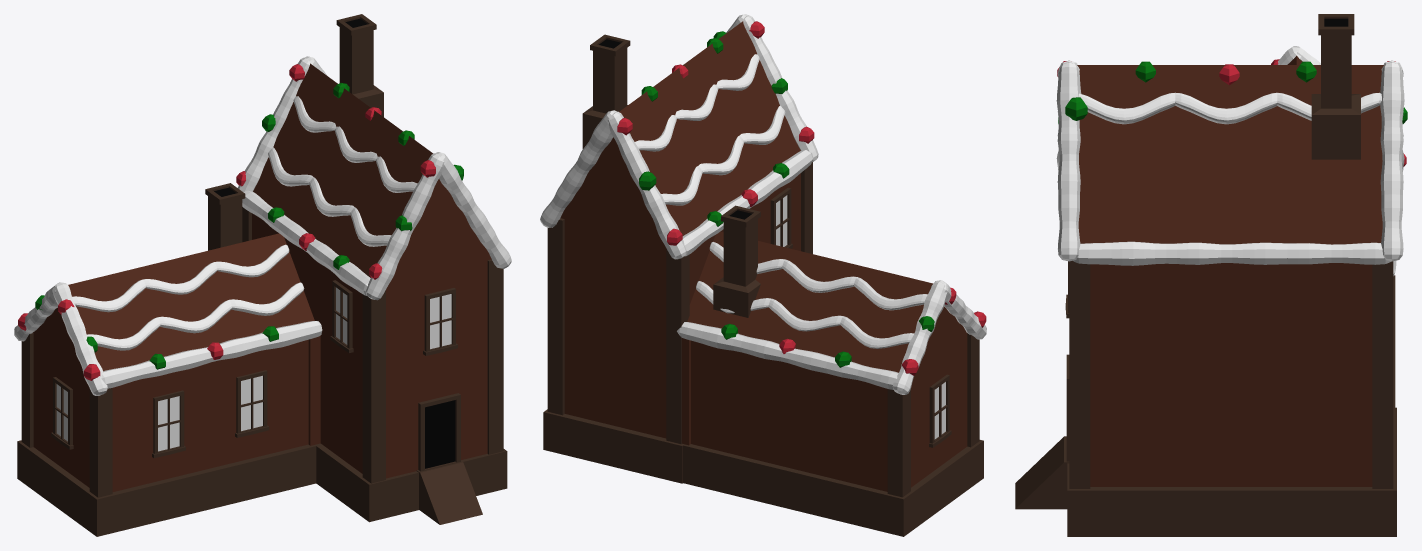
File: Artisan_House_1.fbx
The picture shows the model from 3 angles, left to right: view 1: azimuth 30°, elevation 25°; view 2: azimuth 150°, elevation 25°; view 3: azimuth 270°, elevation 25°; orthographic projection. The views are drawn at different scales.
Visible parts, largest first — view 1: Home Base.001, Home Base, Home Foundation, Home Foundation.001, Support Pillar.006, Frosting Edge, Support Pillar.007, Chimney.001, Door, Stair, Frosting Edge.005, Support Pillar (+28 smaller); view 2: Home Base.001, Home Base, Home Foundation, Home Foundation.001, Chimney, Frosting Edge.001, Support Pillar.004, Support Pillar.005, Chimney.001, Support Pillar.001, Frosting Edge.009, Frosting Edge.008 (+19 smaller); view 3: Home Base.001, Home Foundation.001, Frosting Edge.007, Chimney.001, Support Pillar.007, Support Pillar.005, Frosting Edge.008, Frosting Edge.004, Stair, Frosting Tile.017, Frosting Tile.015, Frosting Tile.016.
Part boxes in pixels (x1,y1,x2,y2): Home Base.001: (252, 63, 491, 478); Home Base: (33, 233, 314, 491); Home Foundation: (17, 440, 321, 536); Home Foundation.001: (316, 444, 507, 522); Support Pillar.006: (362, 290, 385, 483); Frosting Edge: (101, 321, 322, 388); Support Pillar.007: (487, 259, 503, 454); Chimney.001: (336, 14, 383, 116); Door: (418, 393, 460, 471); Stair: (416, 461, 482, 524); Frosting Edge.005: (366, 153, 444, 300); Support Pillar: (89, 388, 112, 497); Home Base.001: (560, 21, 800, 438); Home Base: (687, 231, 967, 491); Home Foundation: (671, 440, 983, 536); Home Foundation.001: (543, 409, 682, 483); Chimney: (713, 205, 760, 317); Frosting Edge.001: (677, 322, 898, 389); Support Pillar.004: (666, 248, 689, 443); Support Pillar.005: (547, 218, 564, 415); Chimney.001: (582, 34, 630, 148); Support Pillar.001: (887, 389, 910, 497); Frosting Edge.009: (607, 111, 686, 259); Frosting Edge.008: (540, 110, 616, 227); Home Base.001: (1077, 65, 1383, 486); Home Foundation.001: (1067, 407, 1396, 536); Frosting Edge.007: (1073, 241, 1391, 265); Chimney.001: (1311, 14, 1360, 159); Support Pillar.007: (1069, 260, 1090, 488); Support Pillar.005: (1372, 261, 1393, 488); Frosting Edge.008: (1380, 62, 1404, 261); Frosting Edge.004: (1056, 62, 1081, 261); Stair: (1015, 436, 1069, 509); Frosting Tile.017: (1175, 92, 1277, 124); Frosting Tile.015: (1078, 93, 1175, 124); Frosting Tile.016: (1276, 92, 1381, 120).
Size of the model in its own units: 192 by 198 by 144.
